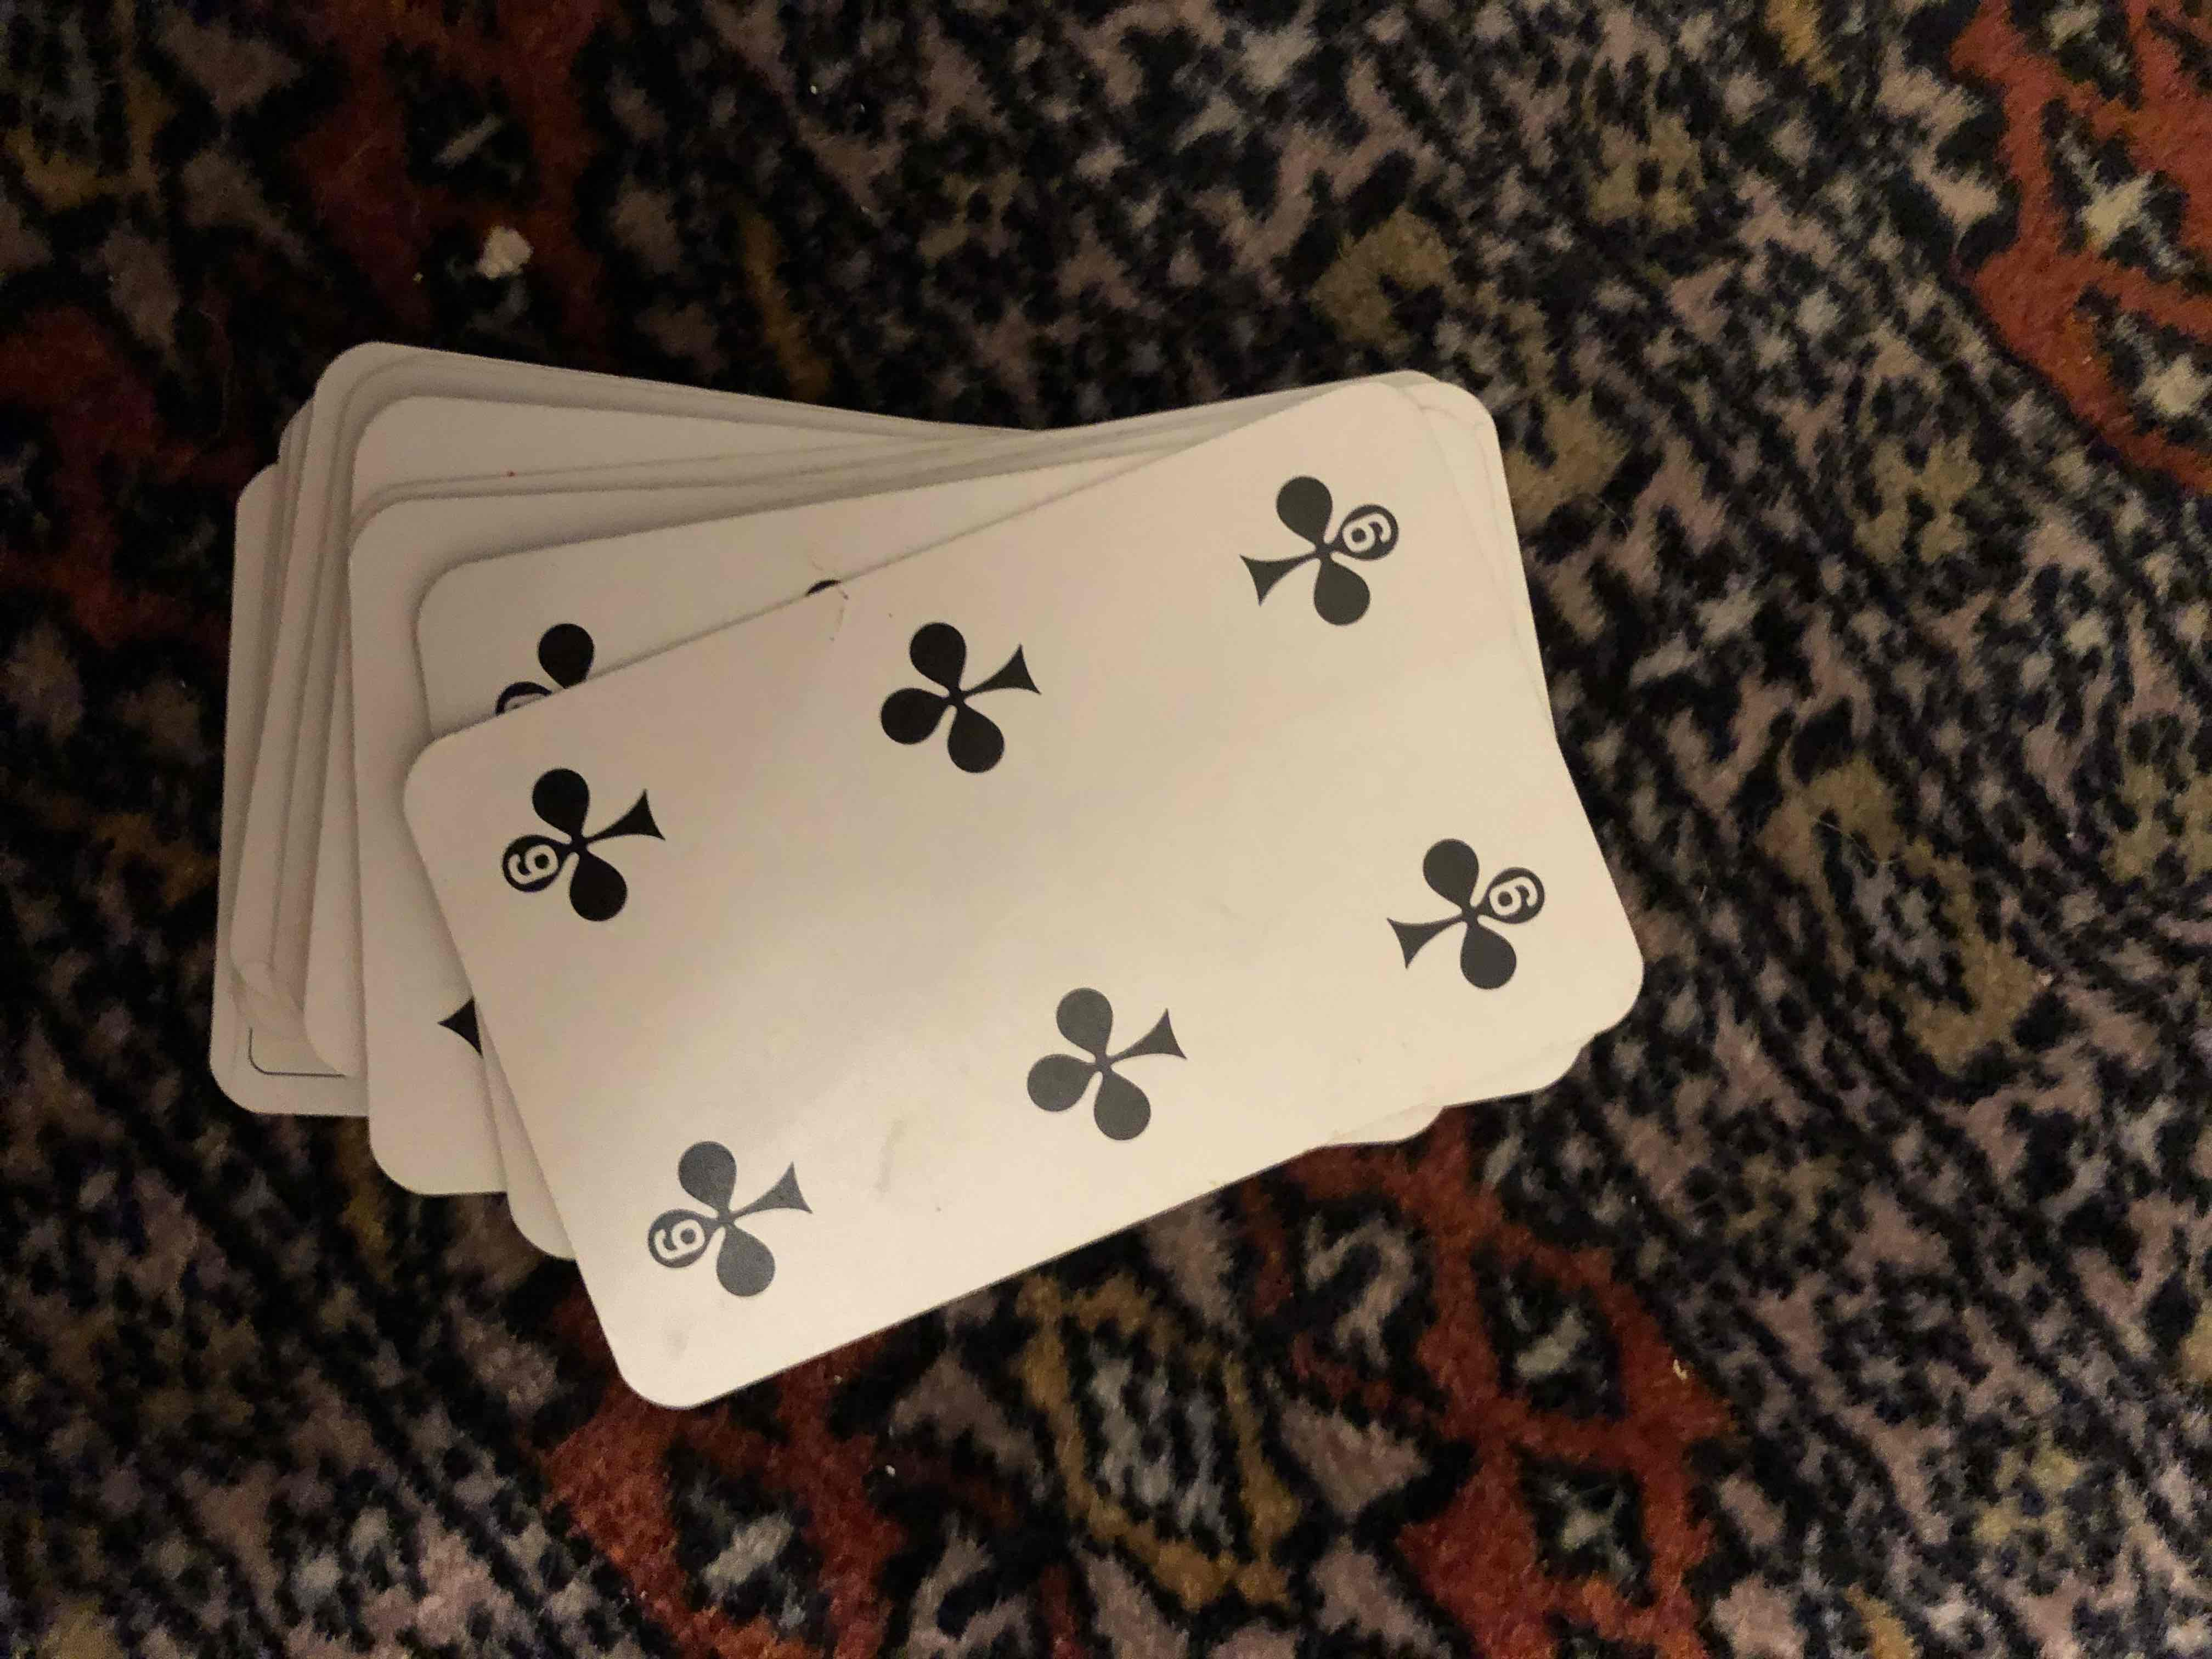clubs6: (430, 458, 1649, 1326)
